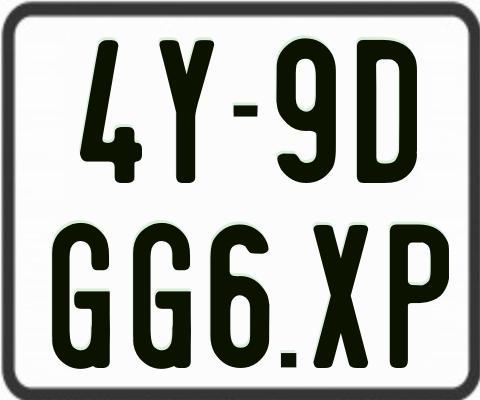4: (79, 40, 145, 187)
6: (207, 223, 269, 367)
9: (274, 38, 340, 184)
D: (356, 37, 420, 180)
G: (50, 220, 112, 372), (132, 223, 191, 374)
P: (390, 221, 451, 366)
X: (314, 224, 373, 368)
Y: (159, 40, 217, 185)
